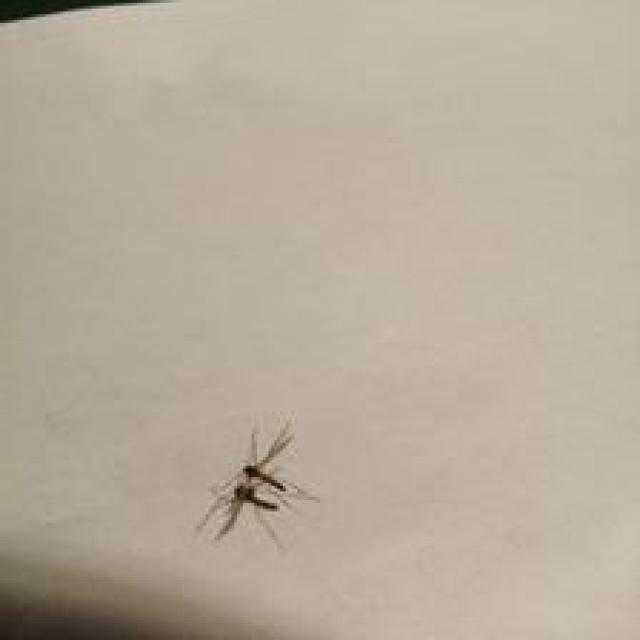Culex: (193, 419, 321, 550)
